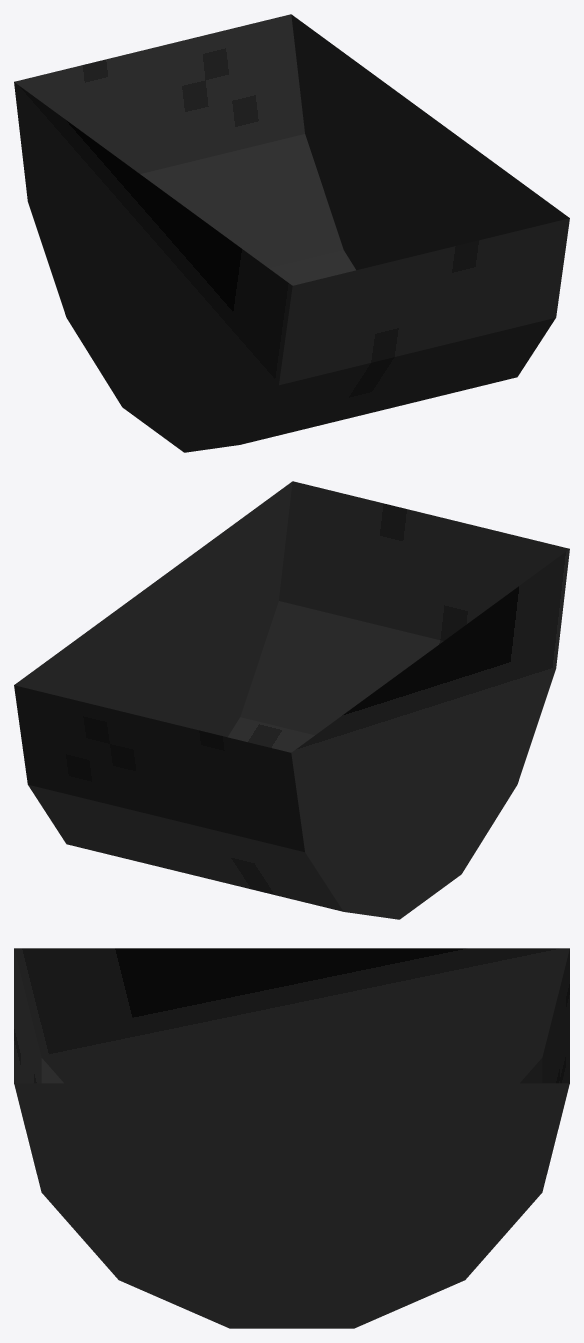
The model's file is Tire Covers.fbx.
The picture shows the model from 3 angles, top to bottom: view 1: azimuth 30°, elevation 25°; view 2: azimuth 150°, elevation 25°; view 3: azimuth 270°, elevation 25°; orthographic projection.
Parts seen in each view (by area): view 1: wheel covers; view 2: wheel covers; view 3: wheel covers.
Part boxes in pixels (x1=…): wheel covers: x1=14, y1=14, x2=569, y2=452; wheel covers: x1=14, y1=481, x2=569, y2=919; wheel covers: x1=14, y1=948, x2=569, y2=1328.
Size of the model in its own units: 0.5183 by 0.4398 by 0.9022.
